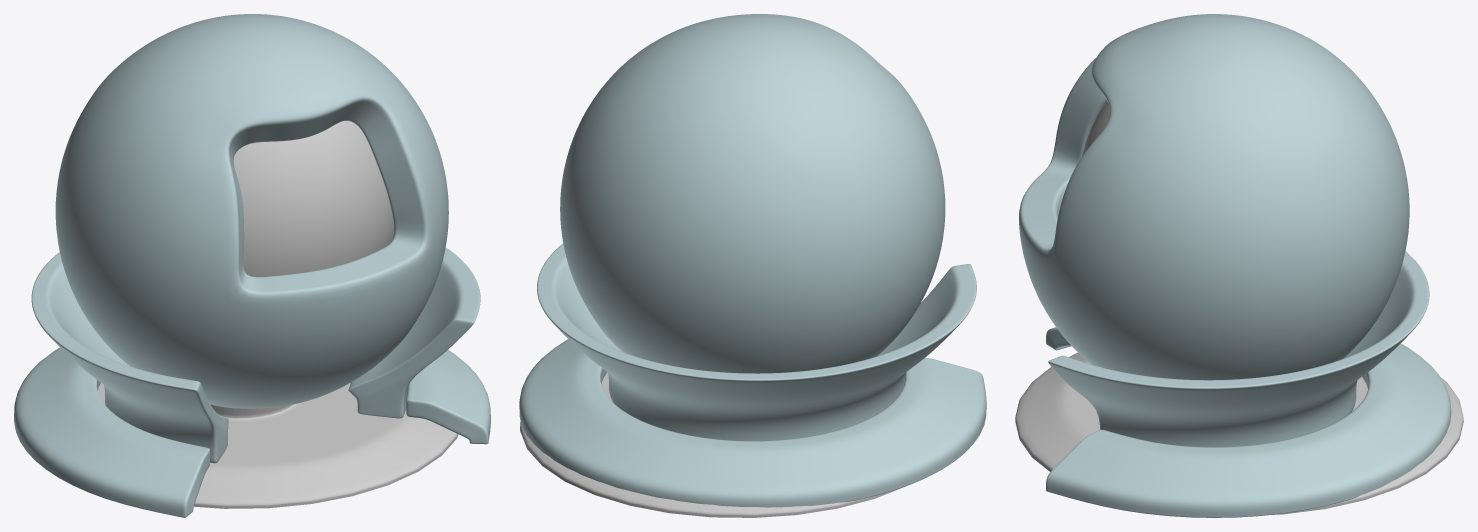
File: mitsuba.fbx
The picture shows the model from 3 angles, left to right: view 1: azimuth 30°, elevation 25°; view 2: azimuth 150°, elevation 25°; view 3: azimuth 270°, elevation 25°; orthographic projection. The views are drawn at different scales.
Parts seen in each view (by area): view 1: 3, 2; view 2: 3, 2; view 3: 3, 2.
Boxes of the visible parts, x1=… form: 3: x1=14, y1=14, x2=490, y2=517; 2: x1=97, y1=121, x2=458, y2=508; 3: x1=519, y1=14, x2=986, y2=507; 2: x1=520, y1=372, x2=905, y2=517; 3: x1=1019, y1=14, x2=1451, y2=517; 2: x1=1015, y1=101, x2=1463, y2=514.
Size of the model in its own units: 244 by 221 by 231.
